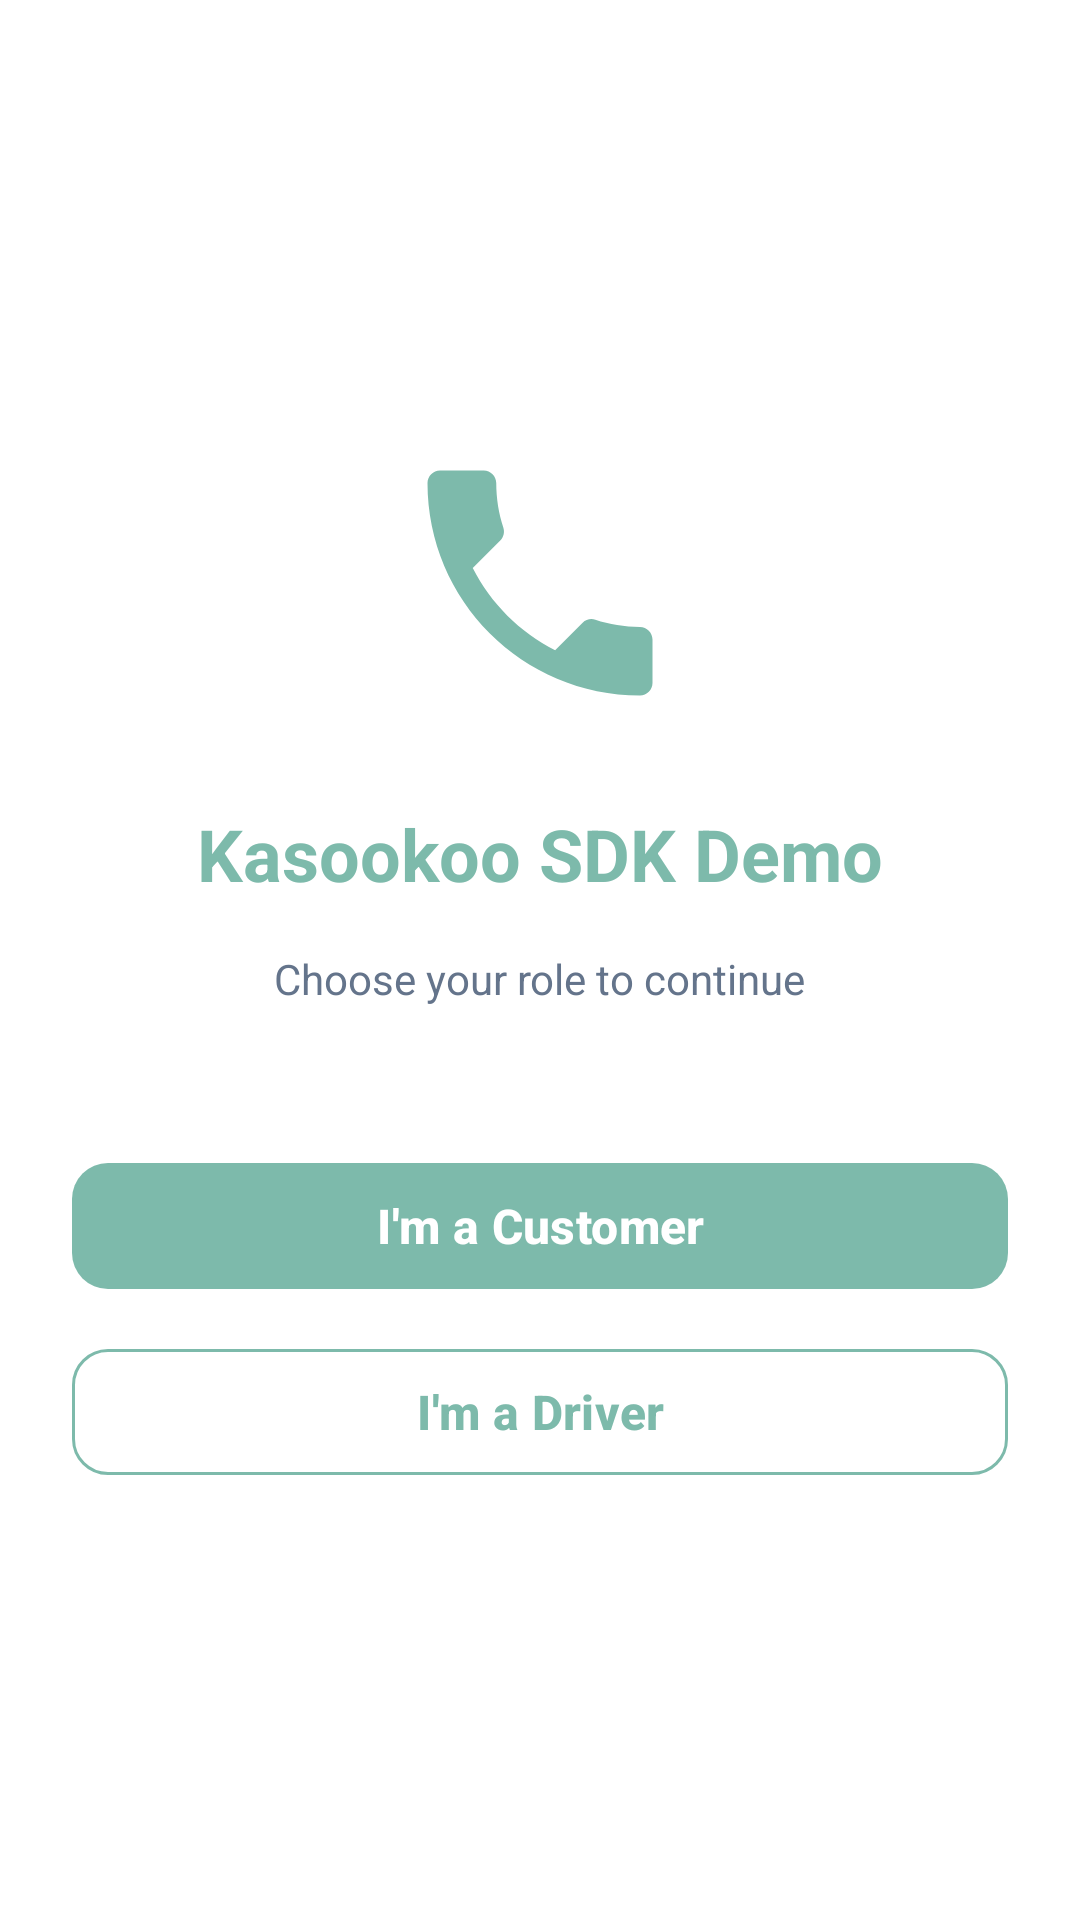

Screen size 1080px x 1920px. Icon name, then its box in pixels as bbox=(x1, y1, x2, y2):
call: bbox=(427, 470, 653, 696)
